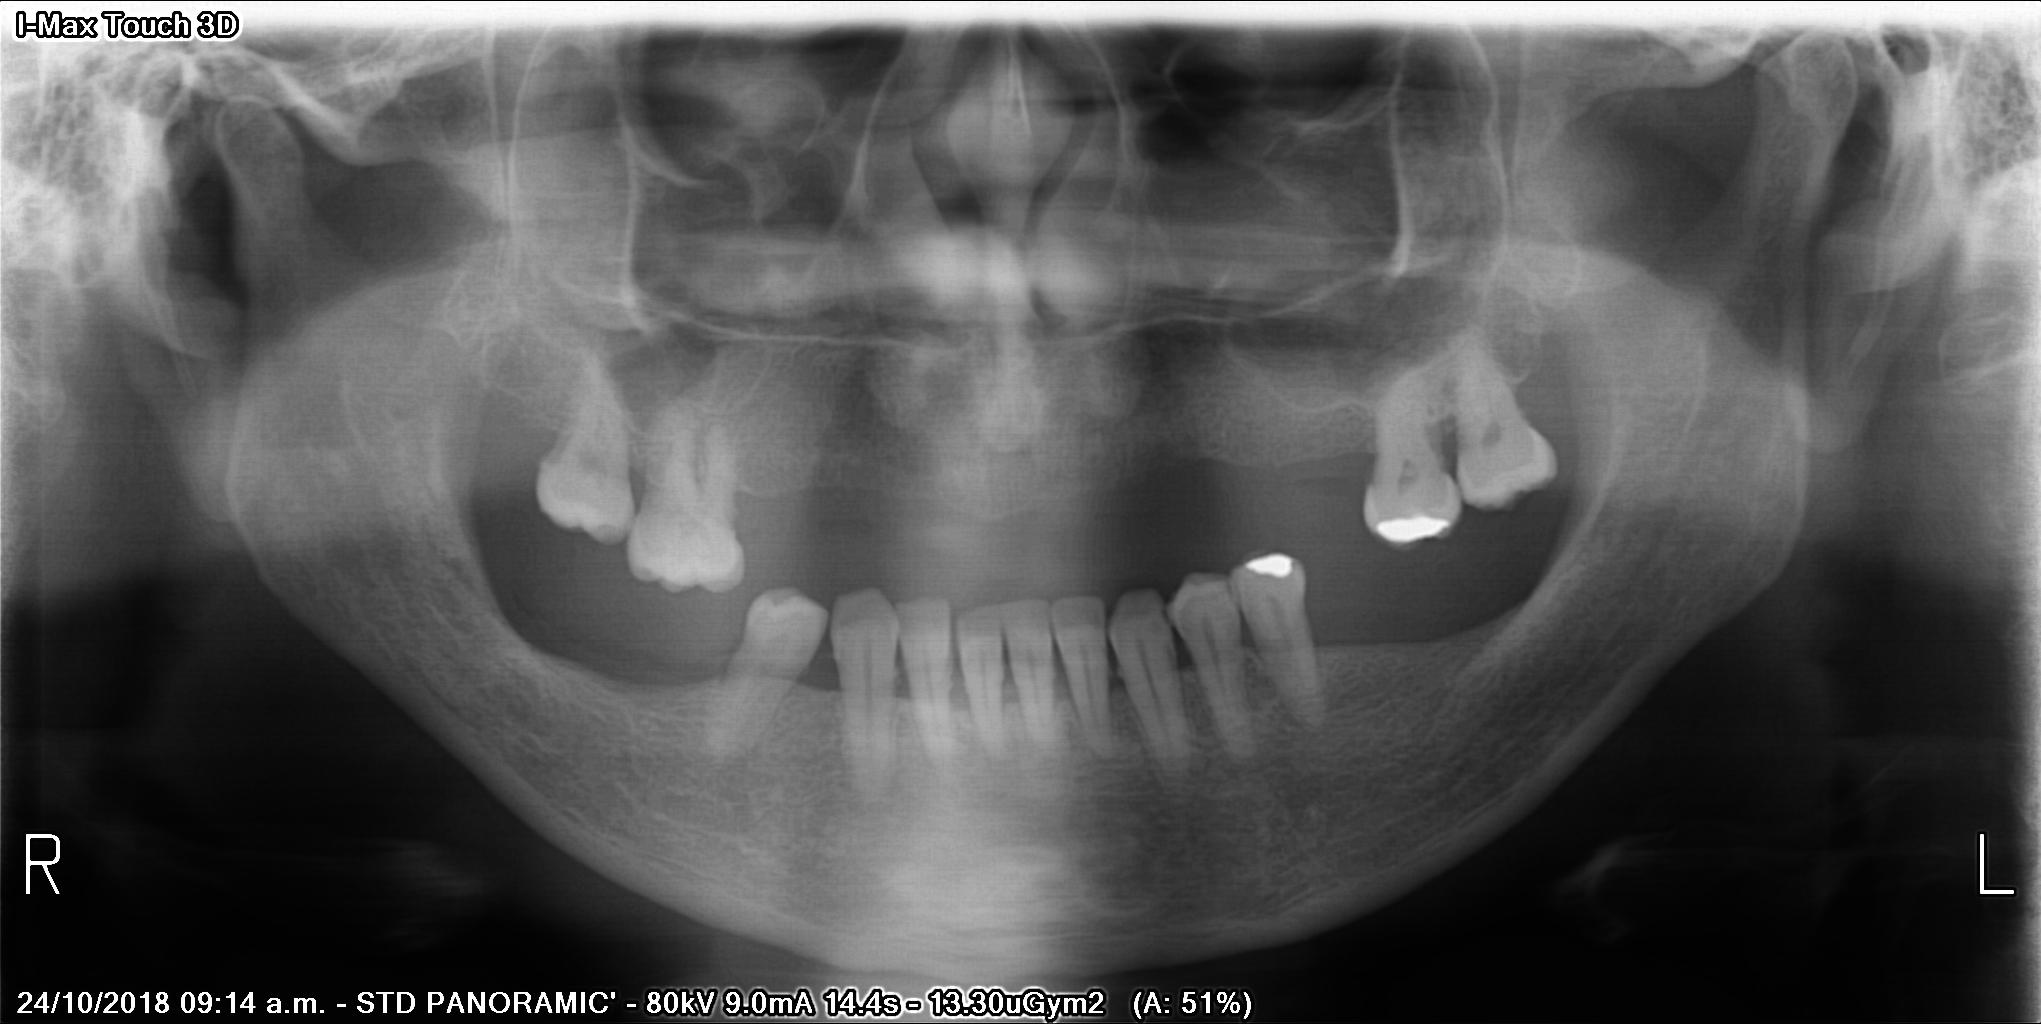Çürük: (1362, 513, 1469, 549), (1241, 546, 1308, 586)
